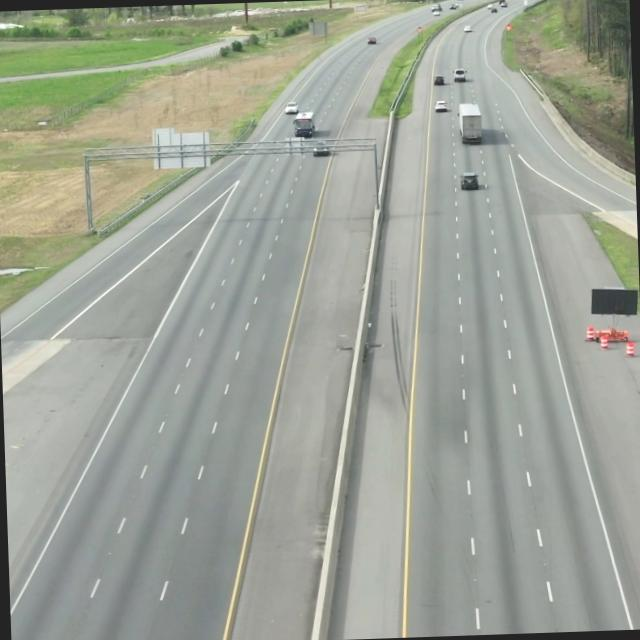Vehicle: (454, 96, 488, 148), (455, 167, 485, 195)
